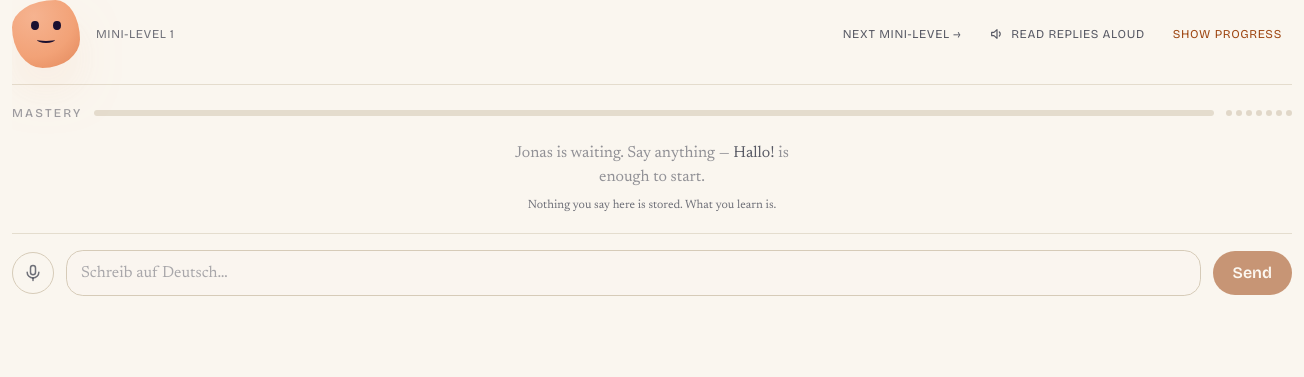
it: a turn the server refused › takes the message back out of the conversation
This screenshot has width=1304, height=377.
Type "Ich möchte einen Kaffee." into the field named "your message in german" at (633, 273), box [66,250,1201,296]
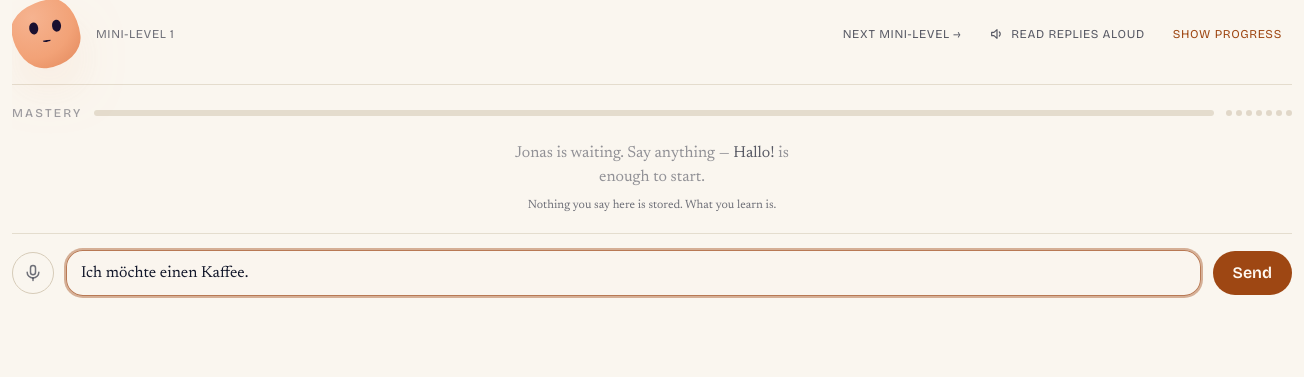
Click the button "Send" at (1252, 273), box [1213,251,1292,295]
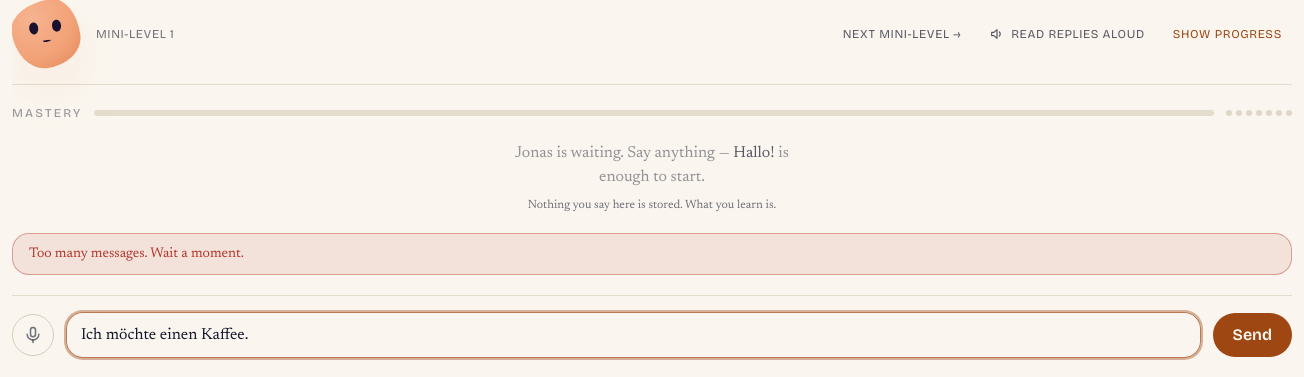
Now the message "Too many messages. Wait a moment." is shown, box [12,233,1292,275]
